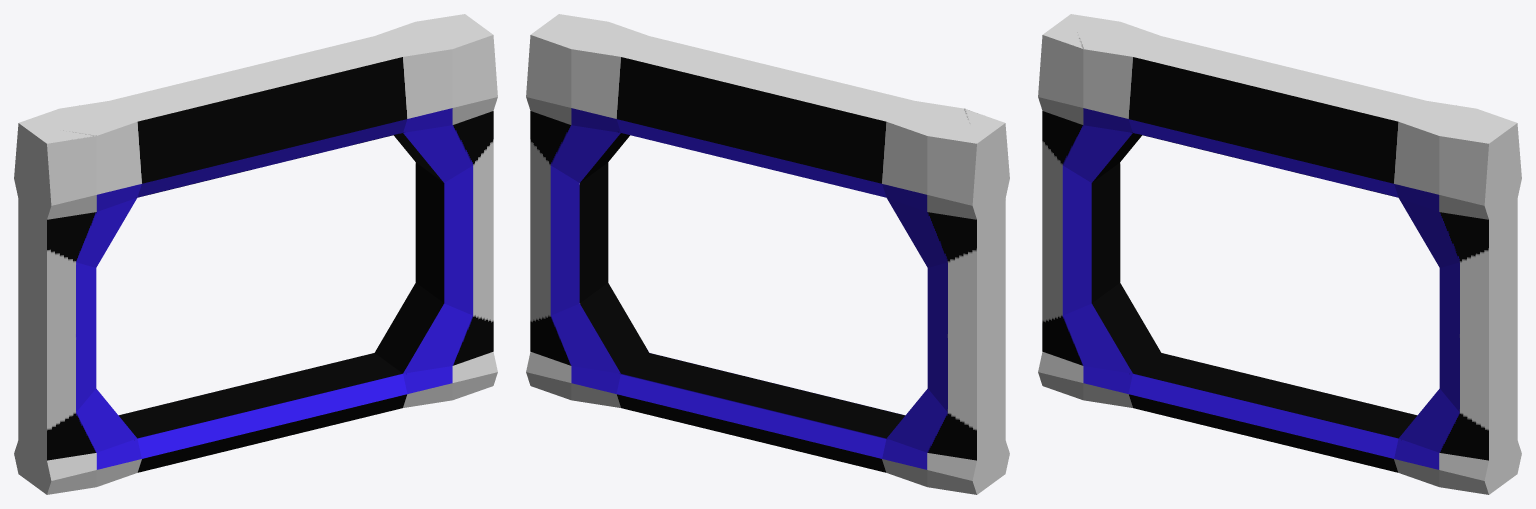
File: DoorFrame.fbx
3 views of the same model, side by side, from view 1: azimuth 30°, elevation 25°; view 2: azimuth 150°, elevation 25°; view 3: azimuth 330°, elevation 25° (orthographic).
Visible parts, largest first — view 1: DoorFrame; view 2: DoorFrame; view 3: DoorFrame.
Part boxes in pixels (<box>): DoorFrame: <box>14,14,497,494</box>; DoorFrame: <box>526,14,1009,494</box>; DoorFrame: <box>1038,14,1521,494</box>.
Bounding box in the file's own units: 1359 × 1021 × 197.
